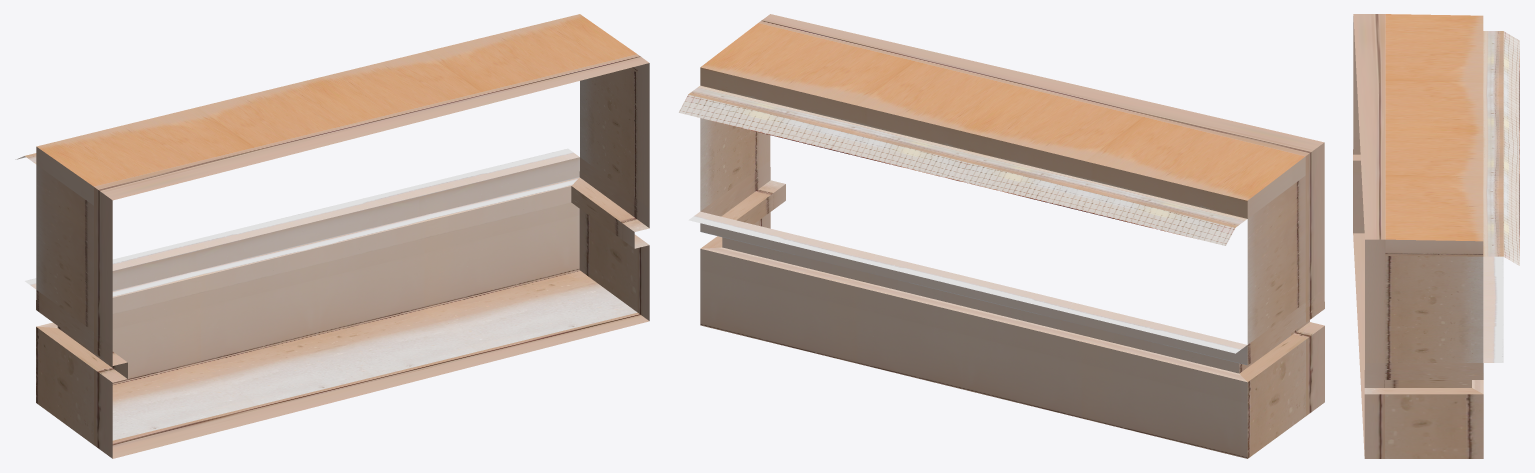
File: 201103_balkon.fbx
3 renders of one model, left to right at view 1: azimuth 30°, elevation 25°; view 2: azimuth 150°, elevation 25°; view 3: azimuth 270°, elevation 25°, orthographic. The views are drawn at different scales.
Parts seen in each view (by area): view 1: Balkon; view 2: Balkon; view 3: Balkon.
Part boxes in pixels (x1,y1,x2,y2): Balkon: [15, 14, 649, 458]; Balkon: [679, 14, 1324, 458]; Balkon: [1353, 14, 1519, 458].
Size of the model in its own units: 919 by 417 by 289.
